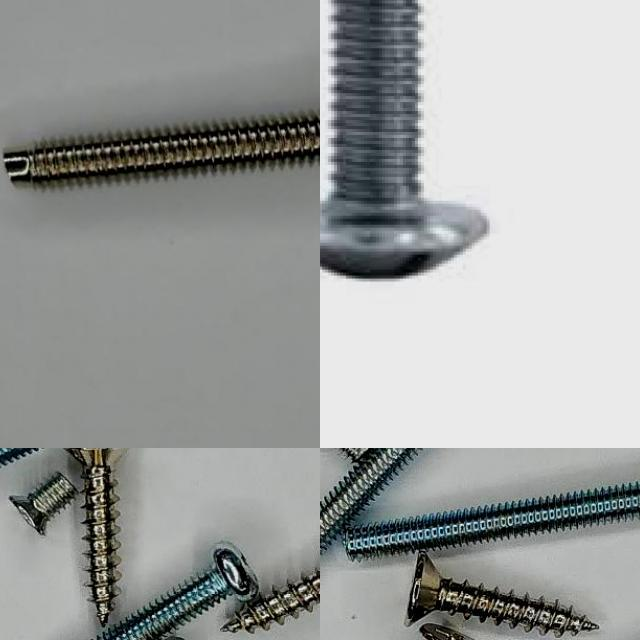Screw: (320, 0, 490, 282), (343, 482, 640, 559), (3, 111, 320, 180), (90, 542, 259, 640), (404, 551, 598, 636), (320, 448, 419, 553), (63, 448, 120, 627), (221, 571, 320, 634), (8, 473, 77, 536)
